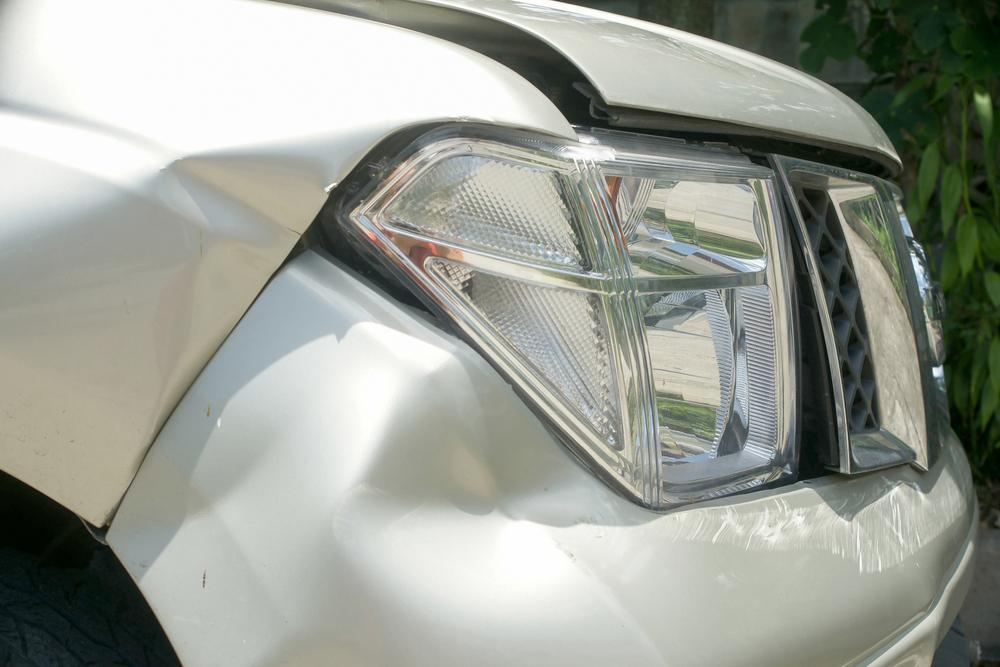dent: (161, 350, 622, 667), (0, 157, 334, 528)
scratch: (673, 462, 972, 577)
